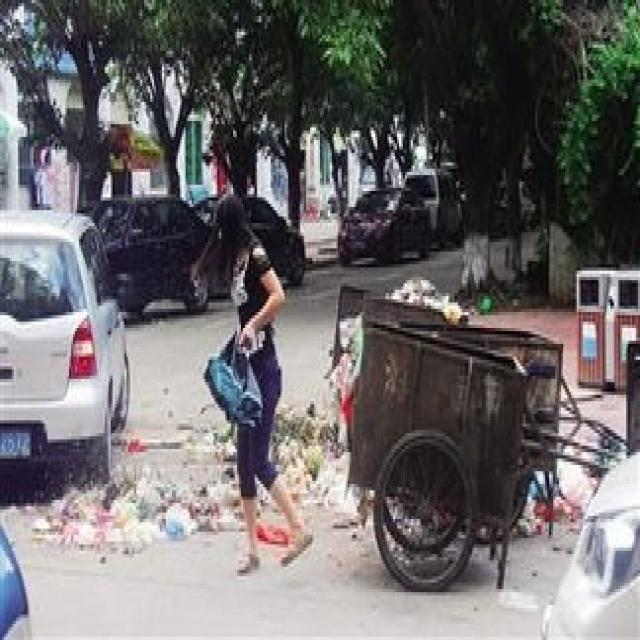garbage: (44, 456, 214, 542), (278, 404, 344, 506), (391, 268, 460, 316), (332, 302, 355, 408)
